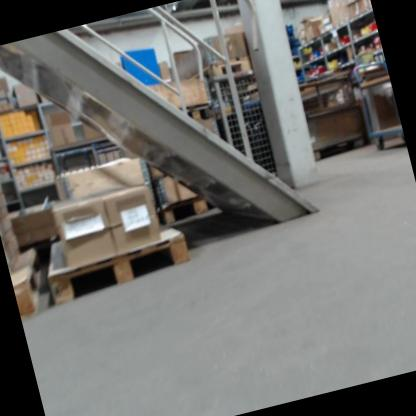pallet: (38, 211, 195, 306), (5, 247, 52, 320), (191, 51, 254, 88), (161, 195, 216, 225)
stillage: (209, 67, 286, 184), (293, 69, 377, 163)
